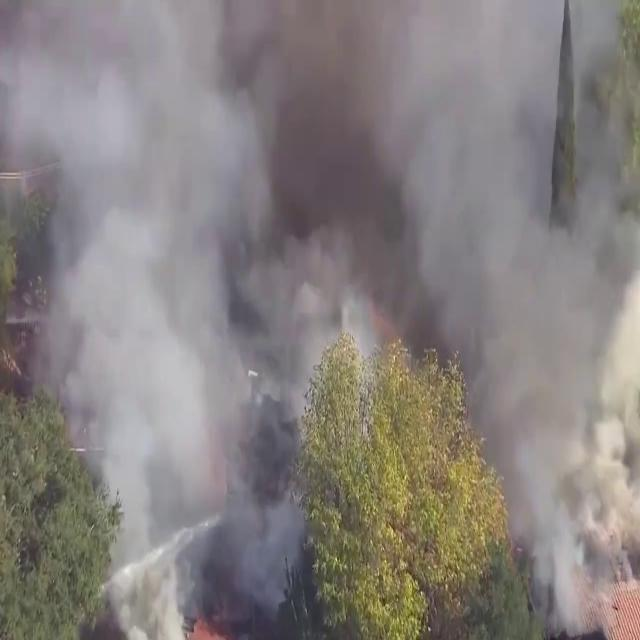Smoke: (1, 0, 638, 633)
